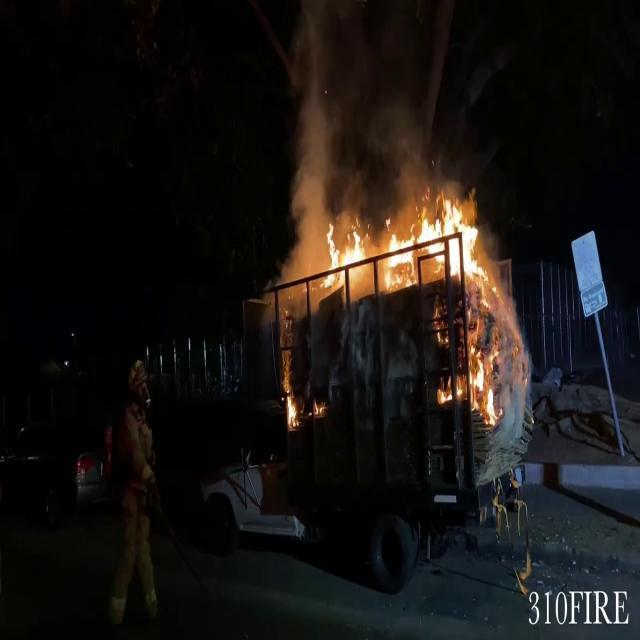Fire: (318, 192, 487, 302), (437, 199, 507, 419)
Smoke: (274, 1, 432, 200)
